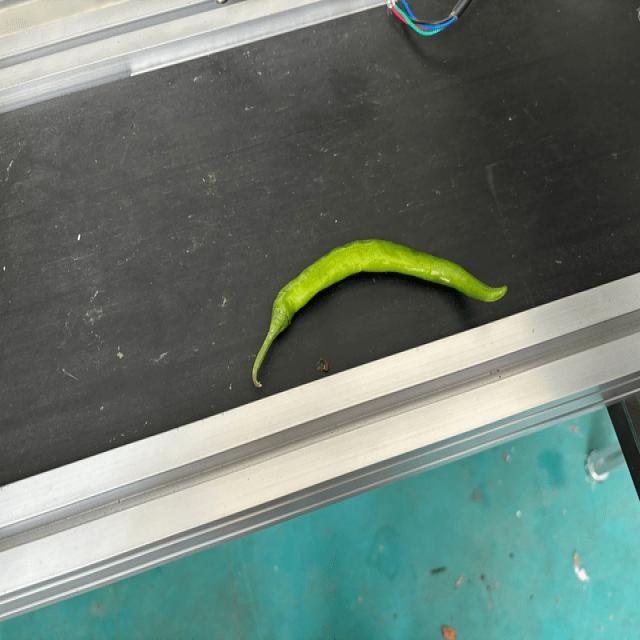chili: (271, 237, 511, 336)
